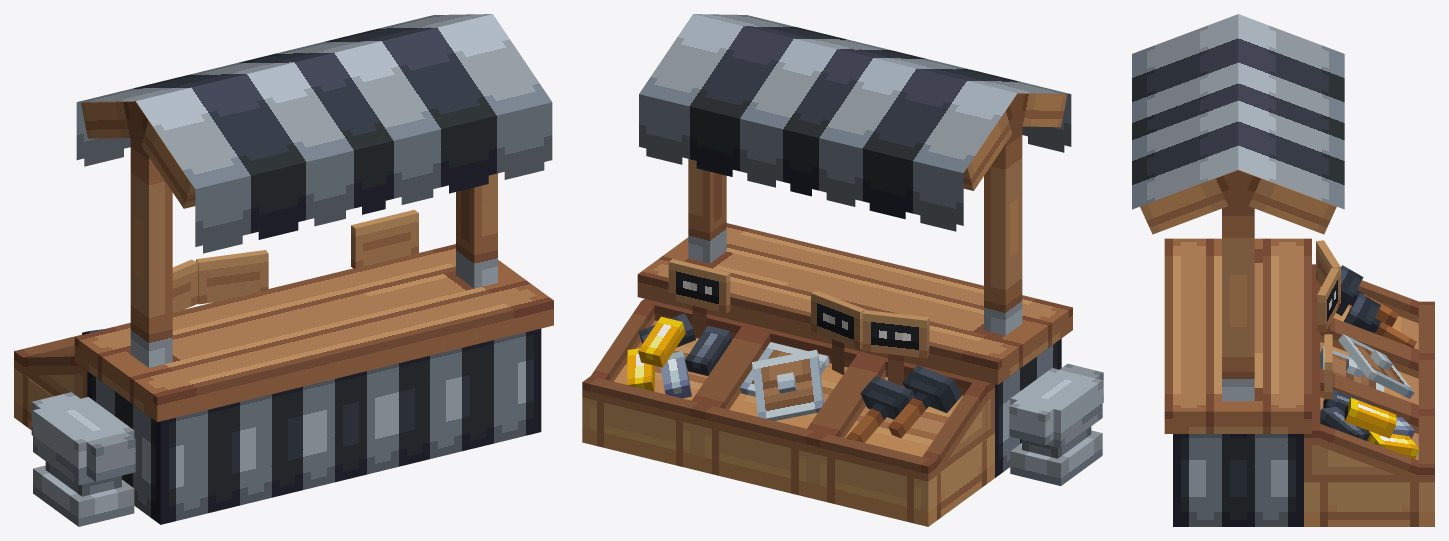
Rendered from blacksmith-stall.gltf.
3 renders of one model, left to right at view 1: azimuth 30°, elevation 25°; view 2: azimuth 150°, elevation 25°; view 3: azimuth 270°, elevation 25°, orthographic. The views are drawn at different scales.
Visible parts, largest first — view 1: cube (×21); view 2: cube (×45); view 3: cube (×36).
Part boxes in pixels (bbox=[...]): cube (×21): bbox=[14, 14, 553, 526]; cube (×45): bbox=[582, 14, 1102, 526]; cube (×36): bbox=[1132, 14, 1434, 526].
Bounding box in the file's own units: 2.67 × 2.22 × 1.73.
2 materials, 2 textured.
